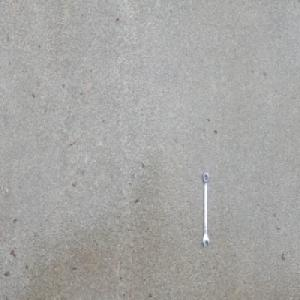Wrench: (201, 170, 209, 248)
